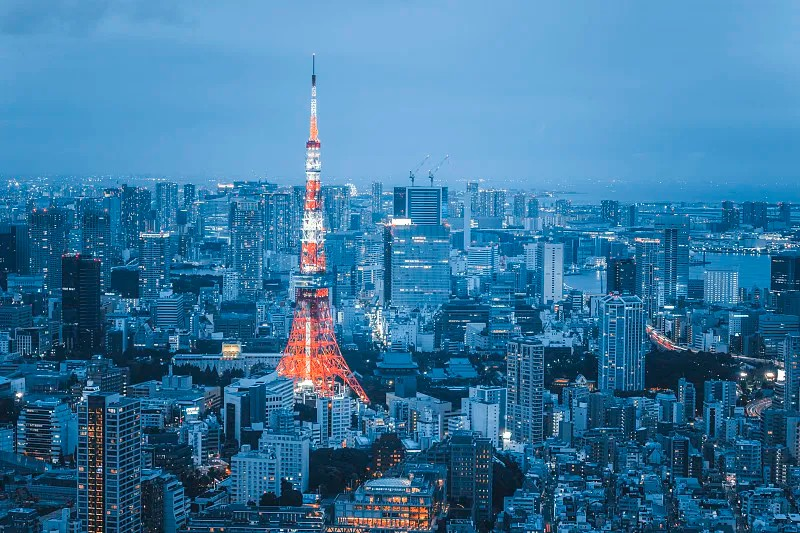Tokyo: (270, 49, 372, 406)
